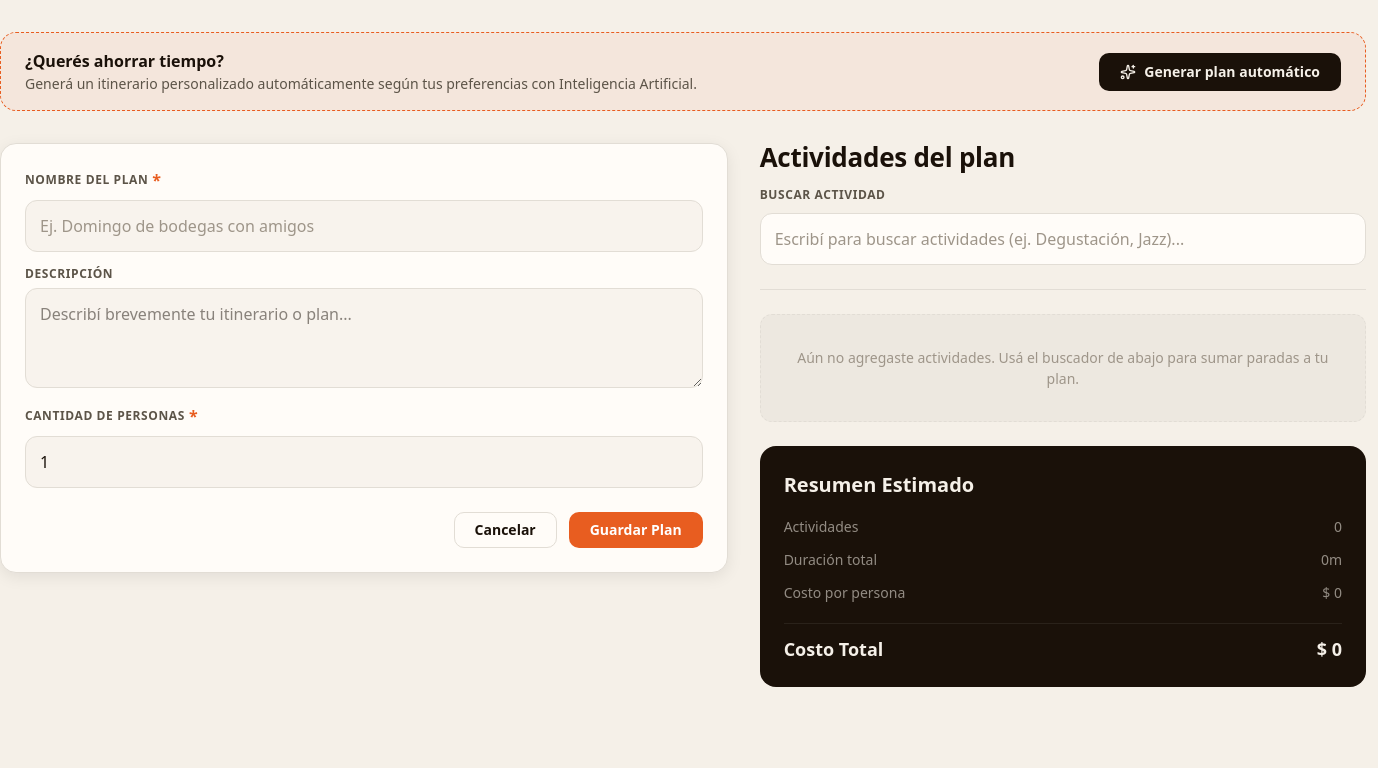
it: CreatePlanForm (CU24) › drops an added activity from the suggestions so it can't be added twice
This screenshot has width=1378, height=768.
Type "degustación" into the field labelled "Buscar Actividad" at (1063, 239), box [760,213,1366,265]
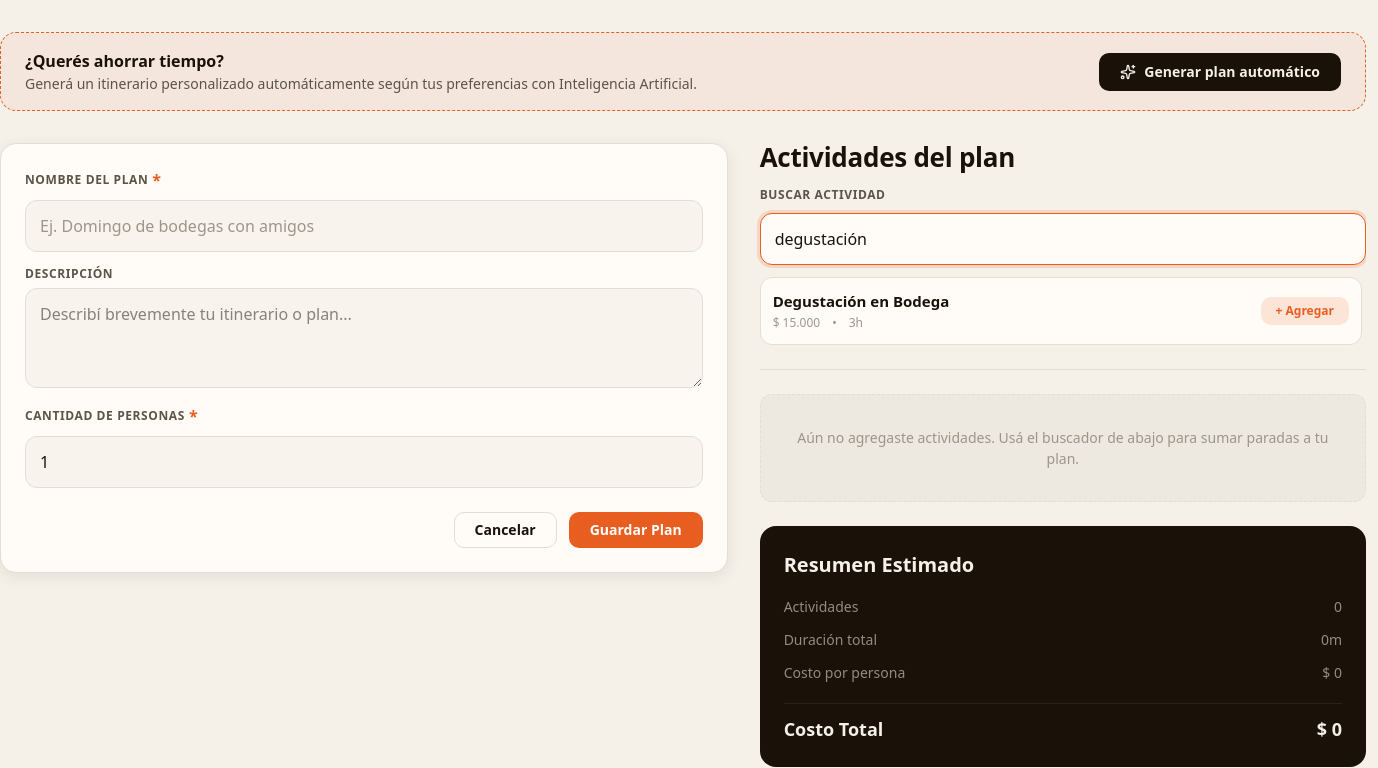
Click the button "+ Agregar" at (1305, 311), box [1260,297,1349,325]
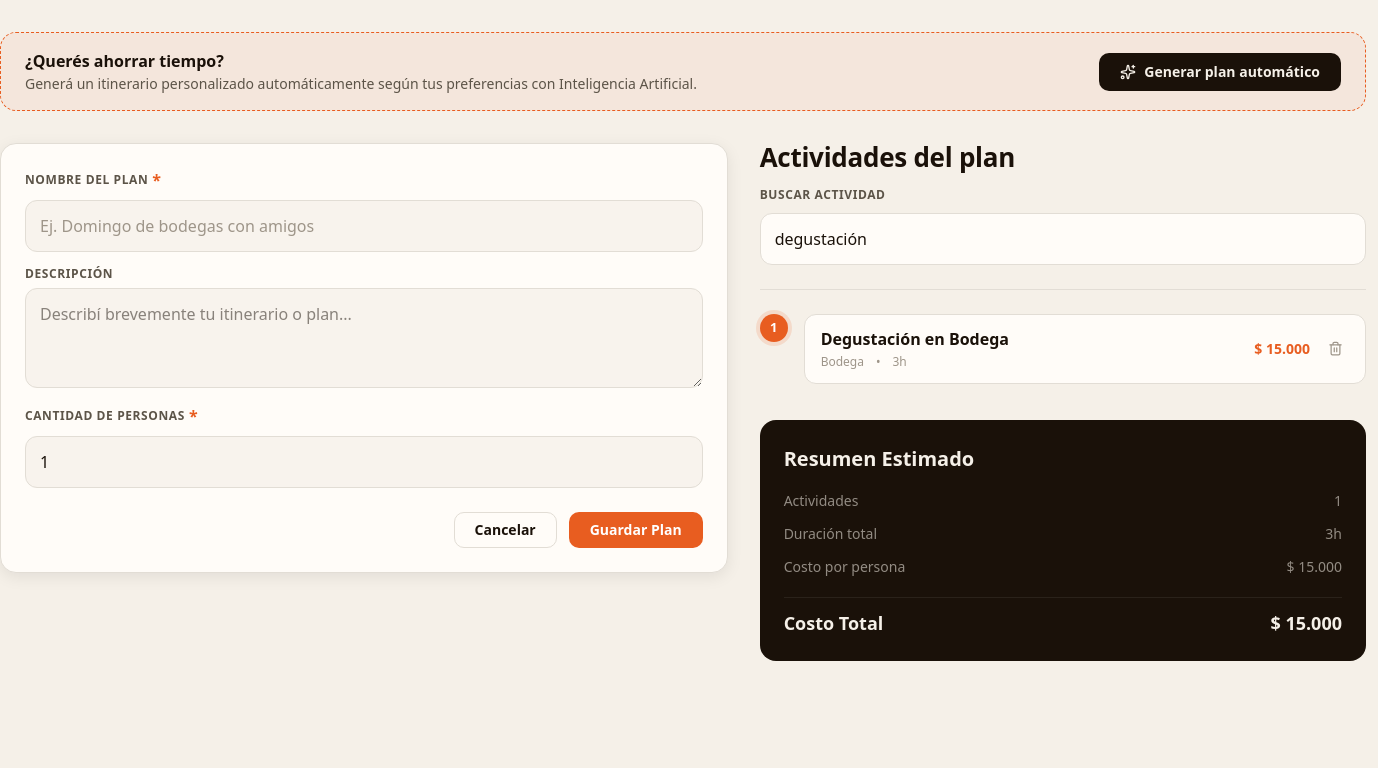
Expected: the text "Degustación en Bodega" is shown, [821,327,1009,351]
Expected: the button "+ Agregar" is gone
